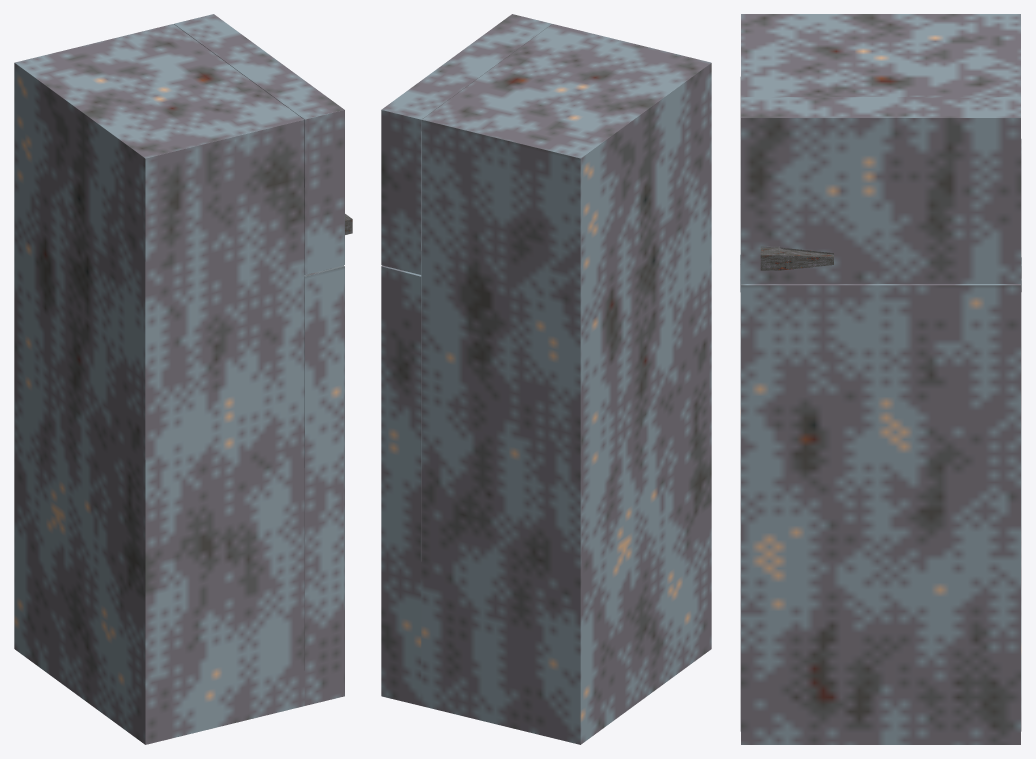
The model's file is Fridge.fbx.
3 renders of one model, left to right at view 1: azimuth 30°, elevation 25°; view 2: azimuth 150°, elevation 25°; view 3: azimuth 270°, elevation 25°, orthographic. The views are drawn at different scales.
Visible parts, largest first — view 1: Cube.001; view 2: Cube.001; view 3: Cube.001.
Boxes of the visible parts, x1,y1,x2,y2 form: Cube.001: (14,14,352,744); Cube.001: (381,14,711,744); Cube.001: (740,14,1021,744).
Size of the model in its own units: 0.2322 by 0.2441 by 0.6009.
Materials: 2 (2 with a texture image).
